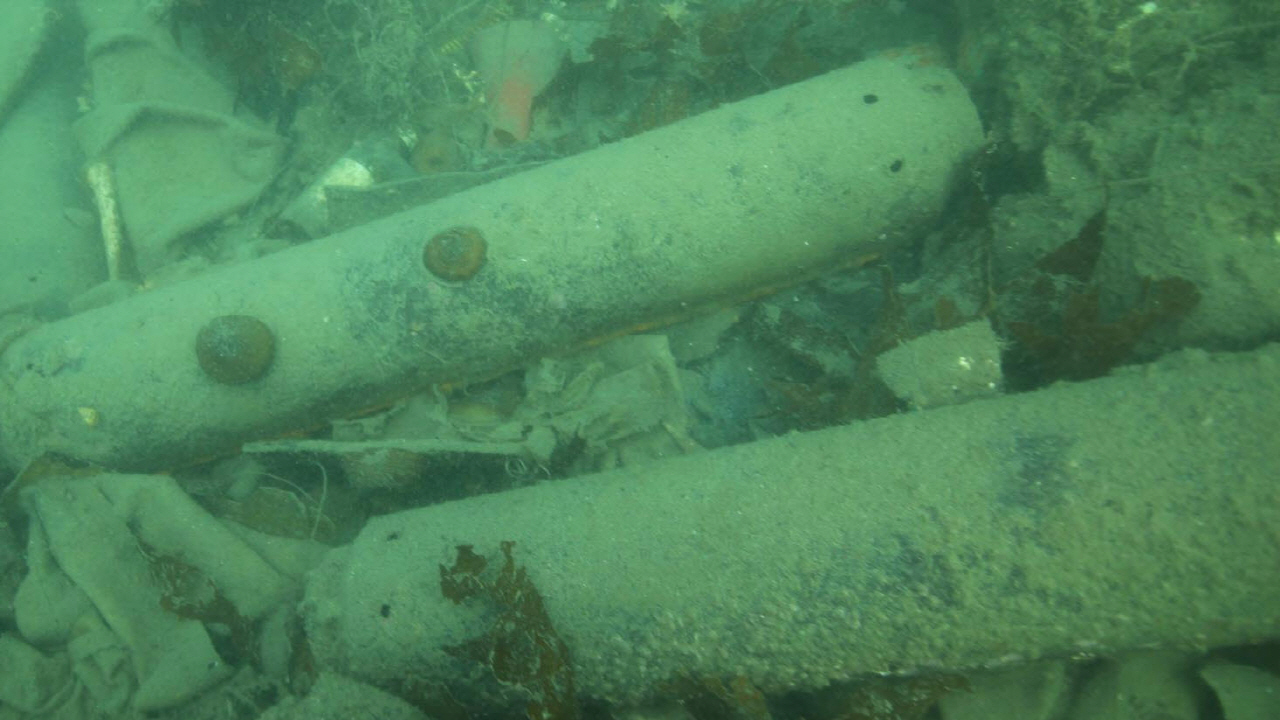eel fish trap: (0, 51, 990, 481), (301, 343, 1280, 707)
